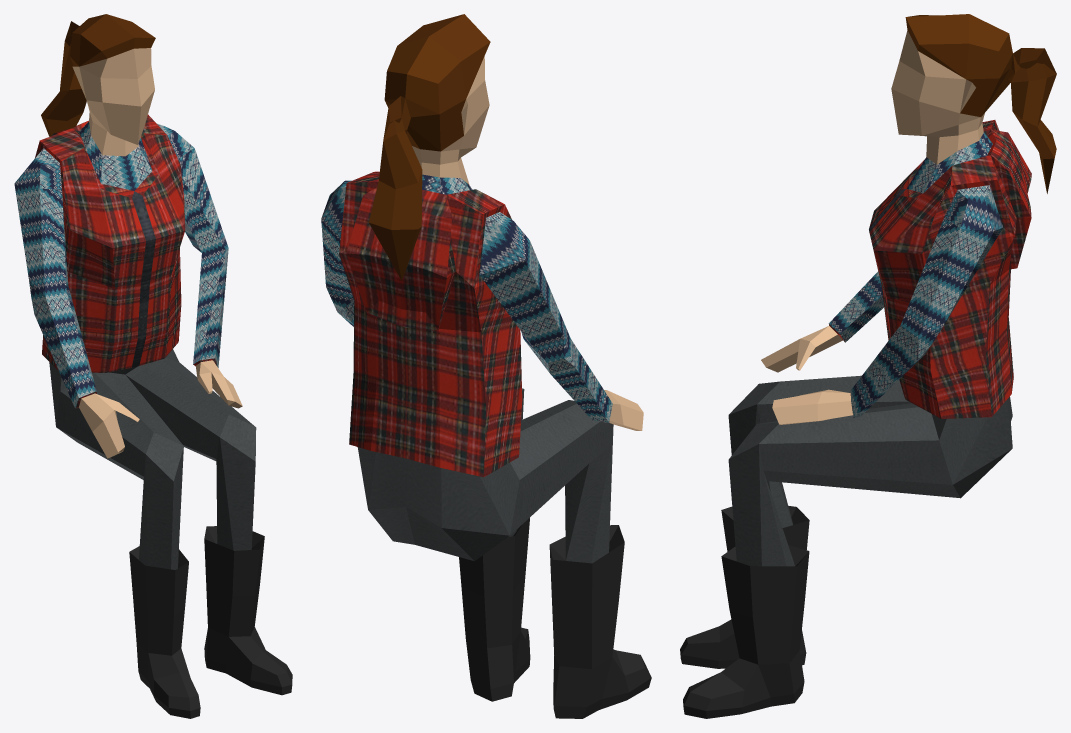
File: AutumnWomanA.006.glb
The picture shows the model from 3 angles, left to right: view 1: azimuth 30°, elevation 25°; view 2: azimuth 150°, elevation 25°; view 3: azimuth 270°, elevation 25°; orthographic projection. The views are drawn at different scales.
Parts seen in each view (by area): view 1: AutumnWomanA.006; view 2: AutumnWomanA.006; view 3: AutumnWomanA.006.
Boxes of the visible parts, x1,y1,x2,y2 form: AutumnWomanA.006: [14, 14, 292, 718]; AutumnWomanA.006: [321, 14, 651, 718]; AutumnWomanA.006: [680, 14, 1056, 718].
Bounding box in the file's own units: 0.4578 × 1.35 × 0.6878.
1 material, 1 textured.
